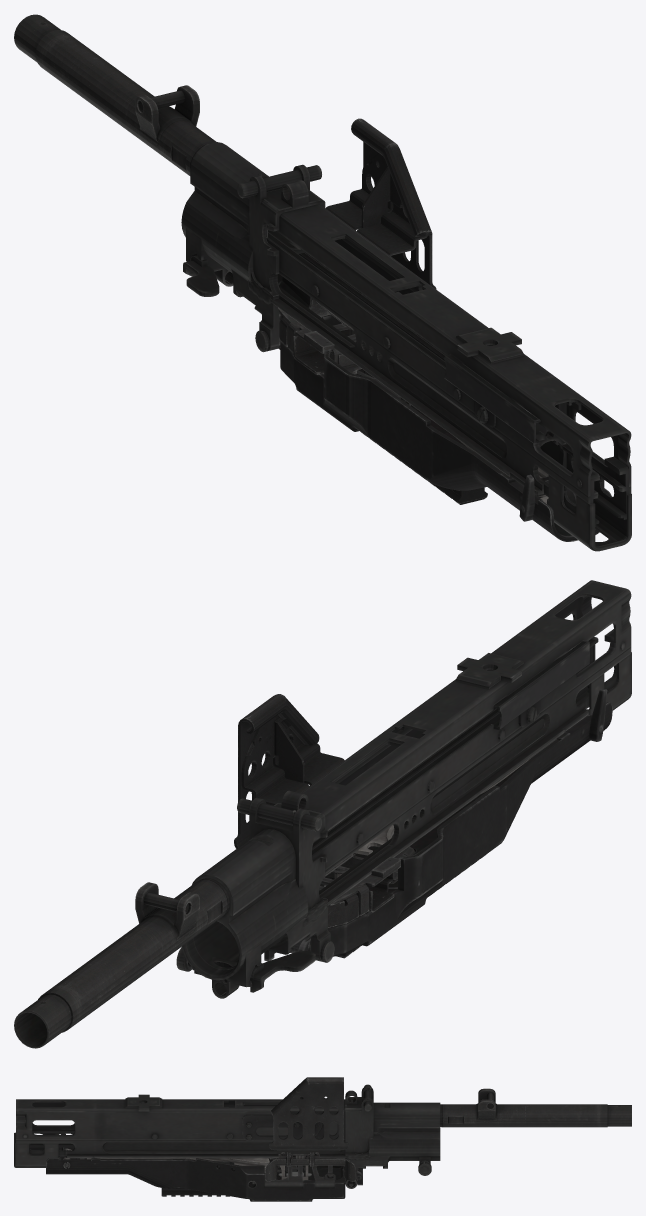
3 renders of one model, top to bottom at view 1: azimuth 30°, elevation 25°; view 2: azimuth 150°, elevation 25°; view 3: azimuth 270°, elevation 25°, orthographic. The views are drawn at different scales.
Parts seen in each view (by area): view 1: TW_661ceb1b9311543c7104149b_PZ_Import; view 2: TW_661ceb1b9311543c7104149b_PZ_Import; view 3: TW_661ceb1b9311543c7104149b_PZ_Import.
Boxes of the visible parts, bbox=[...] form: TW_661ceb1b9311543c7104149b_PZ_Import: bbox=[14, 14, 631, 551]; TW_661ceb1b9311543c7104149b_PZ_Import: bbox=[14, 580, 631, 1048]; TW_661ceb1b9311543c7104149b_PZ_Import: bbox=[14, 1077, 631, 1201].
Size of the model in its own units: 0.0507 by 0.3955 by 0.0922.
1 material, 1 textured.
